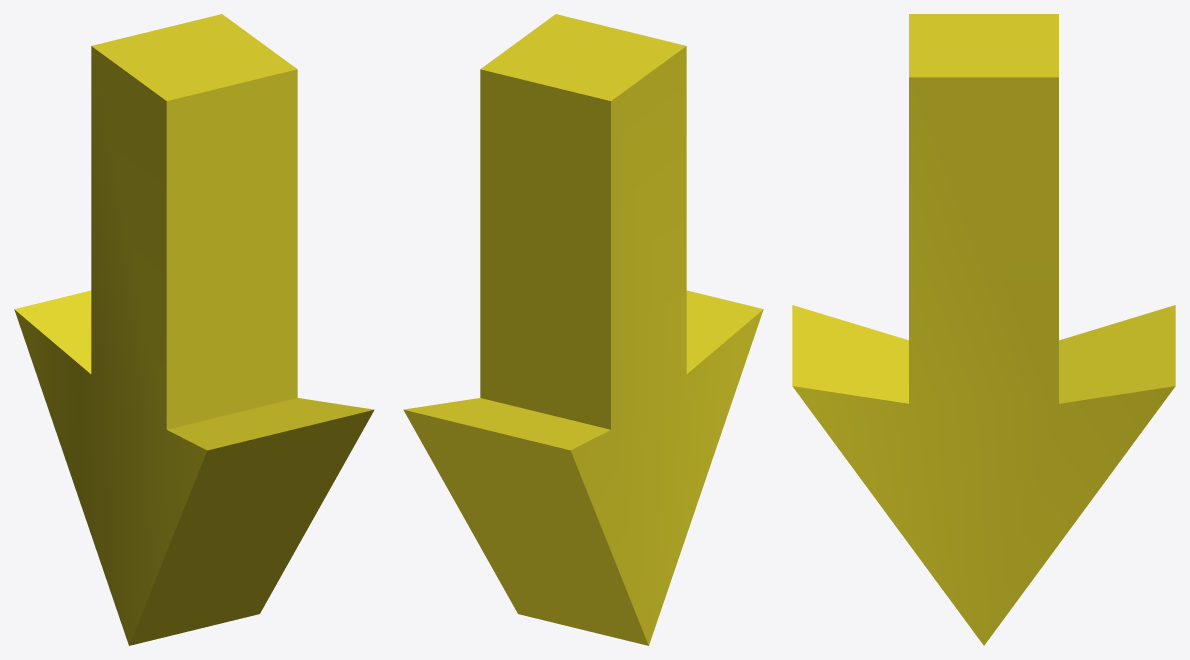
The model's file is Arrow.fbx.
3 renders of one model, left to right at view 1: azimuth 30°, elevation 25°; view 2: azimuth 150°, elevation 25°; view 3: azimuth 270°, elevation 25°, orthographic.
Visible parts, largest first — view 1: Cube; view 2: Cube; view 3: Cube.
Boxes of the visible parts, box(x1,y1,x2,y2) form: Cube: box(14, 14, 374, 645); Cube: box(403, 14, 763, 645); Cube: box(792, 14, 1175, 645).
Size of the model in its own units: 0.0289 by 0.0577 by 0.0945.
